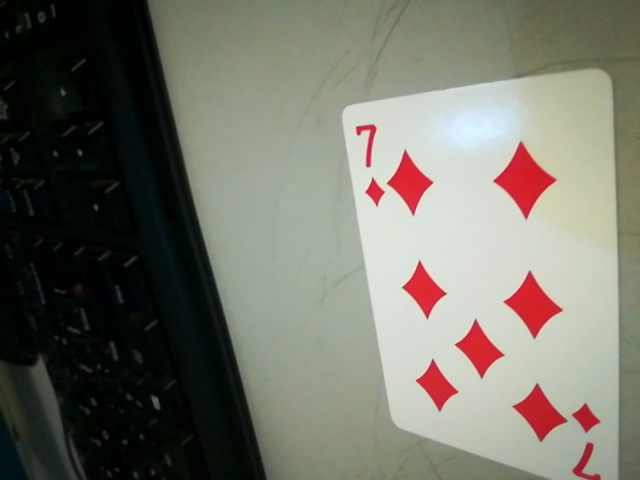fk 7: (565, 401, 616, 480)
